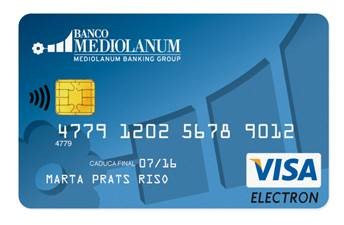tarjeta: (18, 13, 329, 209)
